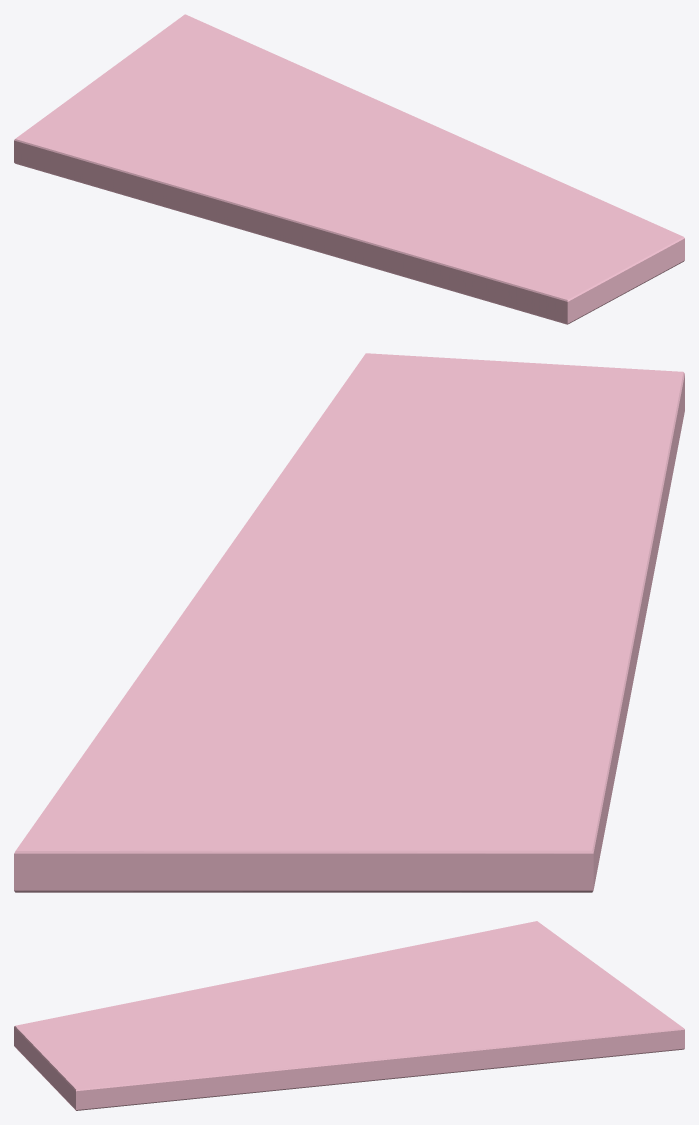
Rendered from DMA.glb.
The picture shows the model from 3 angles, top to bottom: view 1: azimuth 30°, elevation 25°; view 2: azimuth 150°, elevation 25°; view 3: azimuth 270°, elevation 25°; orthographic projection. The views are drawn at different scales.
Size of the model in its own units: 1.16 by 0.068 by 1.94.
